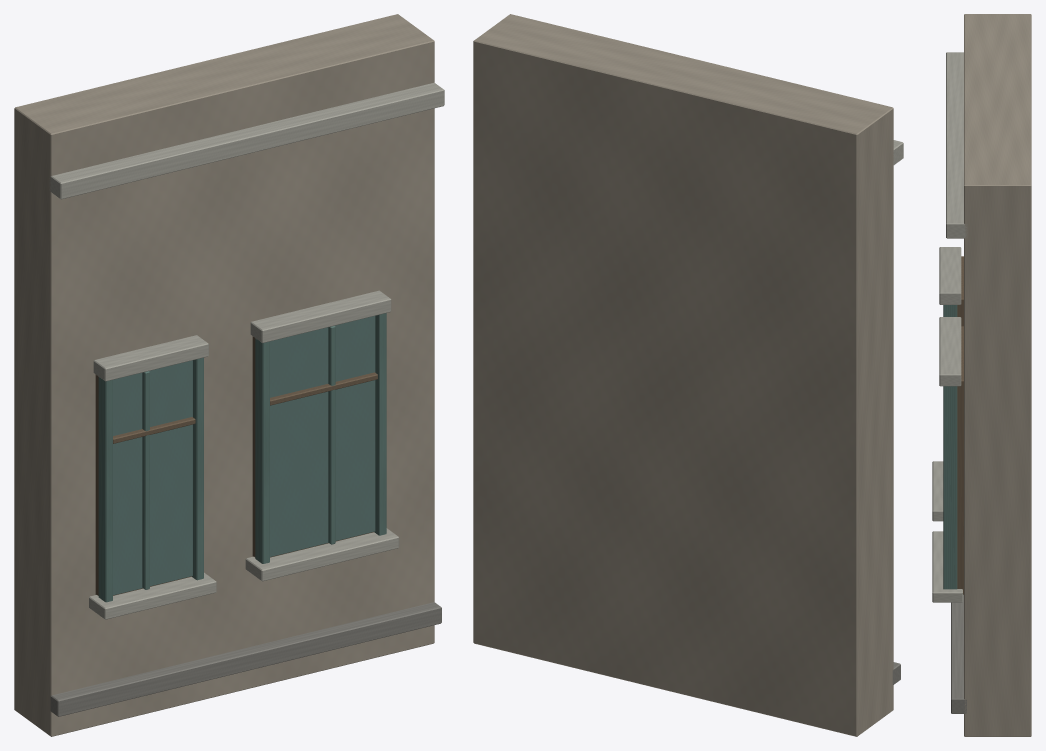
The model's file is U01_ApartmentWindowBay_visual.glb.
3 renders of one model, left to right at view 1: azimuth 30°, elevation 25°; view 2: azimuth 150°, elevation 25°; view 3: azimuth 270°, elevation 25°, orthographic. The views are drawn at different scales.
Visible parts, largest first — view 1: U01_ApartmentWindowBay__VIS_shell; view 2: U01_ApartmentWindowBay__VIS_shell; view 3: U01_ApartmentWindowBay__VIS_shell.
Part boxes in pixels (x1,y1,x2,y2): U01_ApartmentWindowBay__VIS_shell: [14, 14, 444, 736]; U01_ApartmentWindowBay__VIS_shell: [473, 14, 903, 736]; U01_ApartmentWindowBay__VIS_shell: [932, 14, 1031, 736].
Bounding box in the file's own units: 12 × 18 × 2.93.
1 material, 1 textured.
